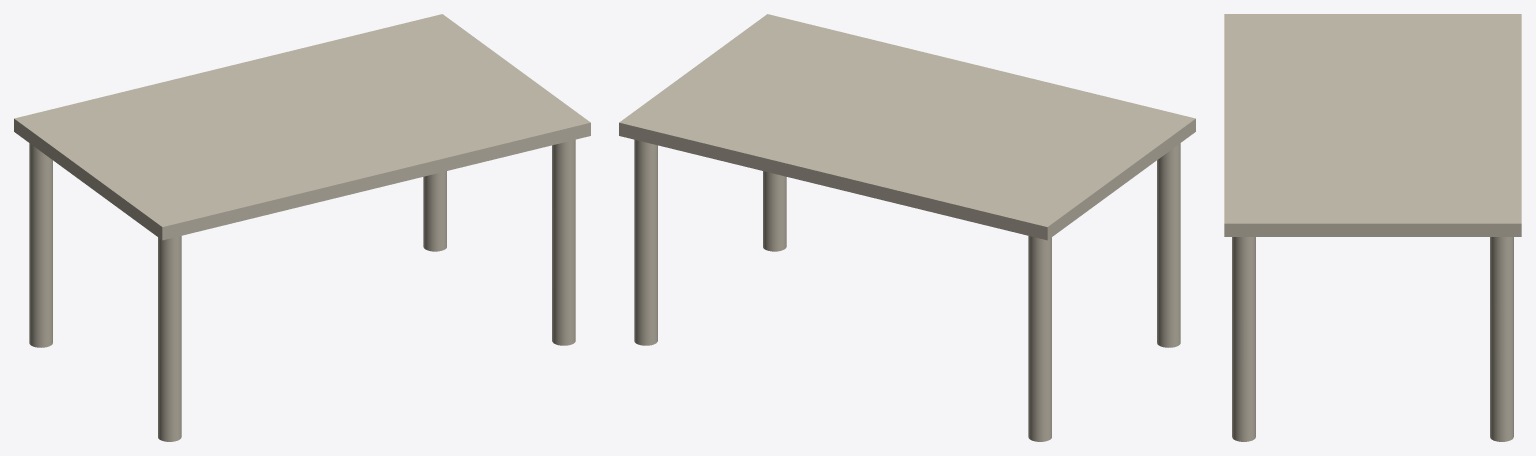
File: vidaxl-outdoor-362241-g2-proxy.glb
3 renders of one model, left to right at view 1: azimuth 30°, elevation 25°; view 2: azimuth 150°, elevation 25°; view 3: azimuth 270°, elevation 25°, orthographic.
Parts seen in each view (by area): view 1: proxy_body, leg (×4); view 2: proxy_body, leg (×4); view 3: proxy_body, leg (×2).
Part boxes in pixels (x1=…): proxy_body: x1=14, y1=14, x2=590, y2=240; leg (×4): x1=29, y1=139, x2=575, y2=441; proxy_body: x1=619, y1=14, x2=1195, y2=240; leg (×4): x1=634, y1=139, x2=1180, y2=441; proxy_body: x1=1224, y1=14, x2=1521, y2=236; leg (×2): x1=1232, y1=237, x2=1513, y2=441.
Size of the model in its own units: 1.5 by 0.74 by 0.9.
